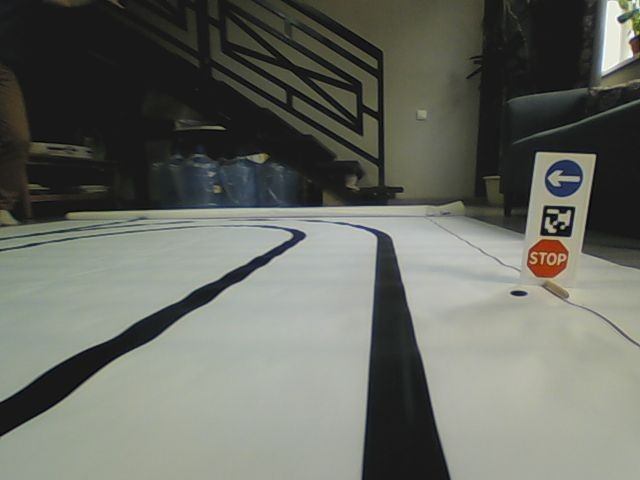Stop: (525, 238, 569, 280)
